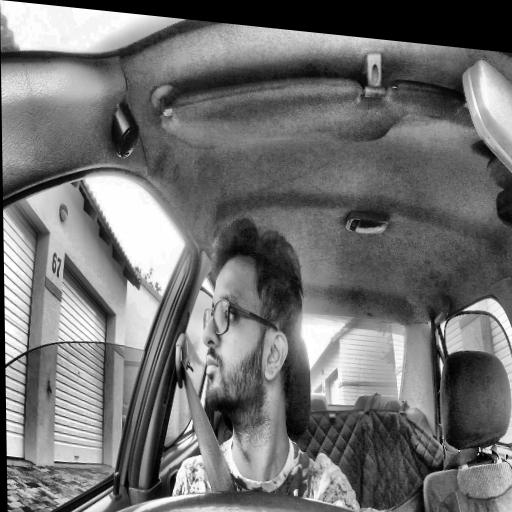awake: (200, 214, 306, 422)
